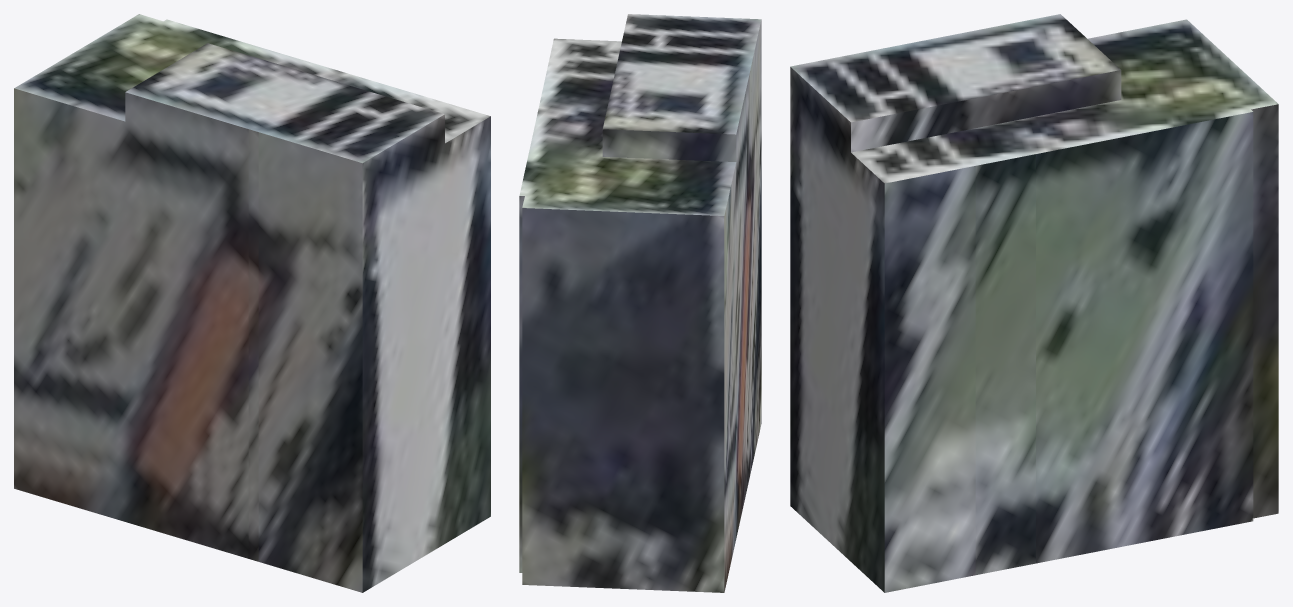
Rendered from DEB_LOD2_UUID_14708c1f-073e-424e-820e-5e021fd0ee03.dae.
The picture shows the model from 3 angles, left to right: view 1: azimuth 30°, elevation 25°; view 2: azimuth 150°, elevation 25°; view 3: azimuth 270°, elevation 25°; orthographic projection. The views are drawn at different scales.
Bounding box in the file's own units: 10.68 × 13.43 × 13.33.
2 materials, 1 textured.
